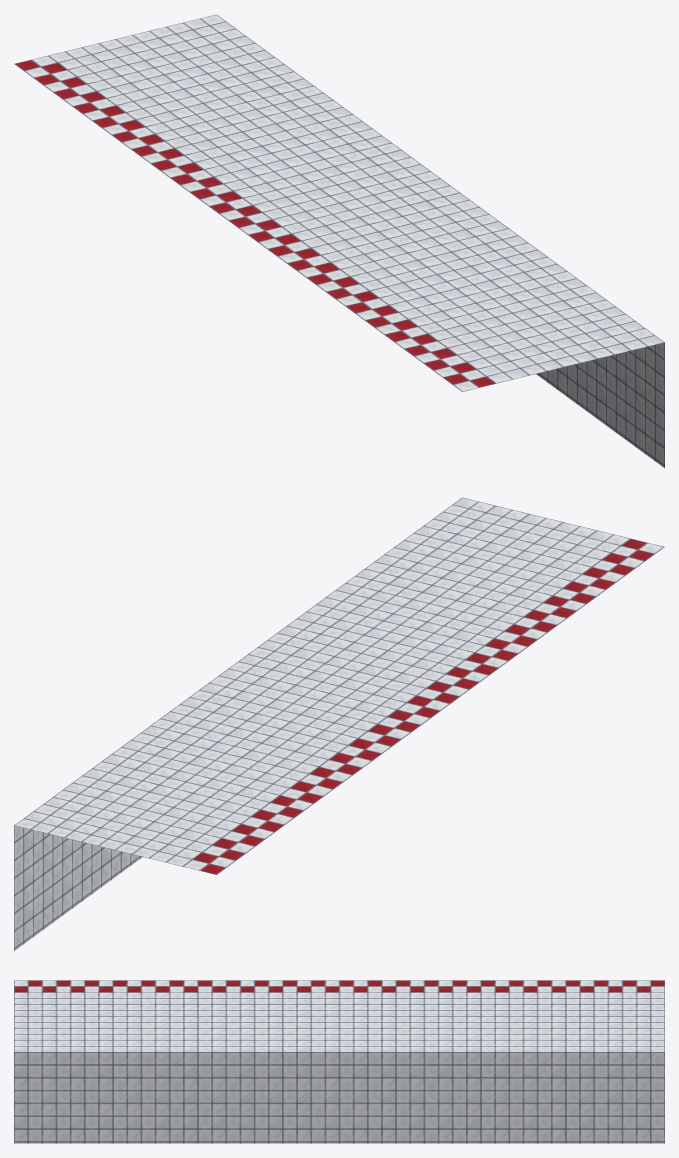
Rendered from Countertop.glb.
3 renders of one model, top to bottom at view 1: azimuth 30°, elevation 25°; view 2: azimuth 150°, elevation 25°; view 3: azimuth 270°, elevation 25°, orthographic. The views are drawn at different scales.
Parts seen in each view (by area): view 1: Plane; view 2: Plane; view 3: Plane.
Part boxes in pixels (x1,y1,x2,y2): Plane: [14, 14, 664, 468]; Plane: [14, 497, 664, 951]; Plane: [14, 980, 664, 1143].
Bounding box in the file's own units: 1.98 × 1.18 × 7.58.
2 materials, 2 textured.
